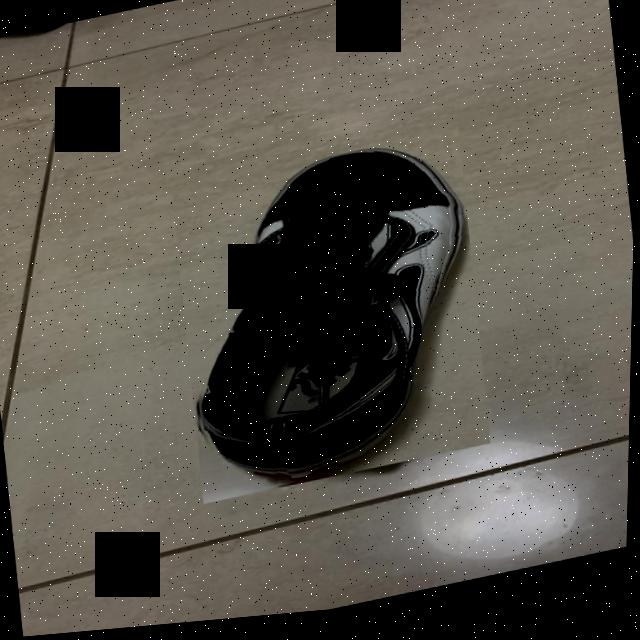shoe: (167, 135, 498, 511)
